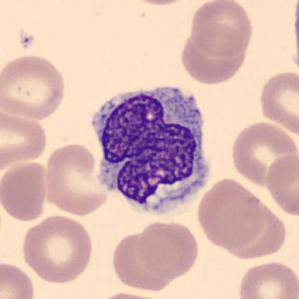Monocyte: (85, 76, 217, 225)
RBC: (194, 176, 267, 251), (19, 213, 95, 285), (43, 141, 110, 216), (228, 119, 298, 188), (0, 52, 69, 121), (177, 25, 251, 86), (109, 227, 175, 293), (134, 218, 200, 280), (220, 204, 288, 262), (188, 0, 255, 58), (0, 158, 50, 223), (255, 67, 299, 136), (0, 110, 49, 168), (235, 258, 298, 299), (264, 152, 298, 218), (0, 259, 36, 298), (89, 289, 169, 299), (122, 0, 194, 7)
